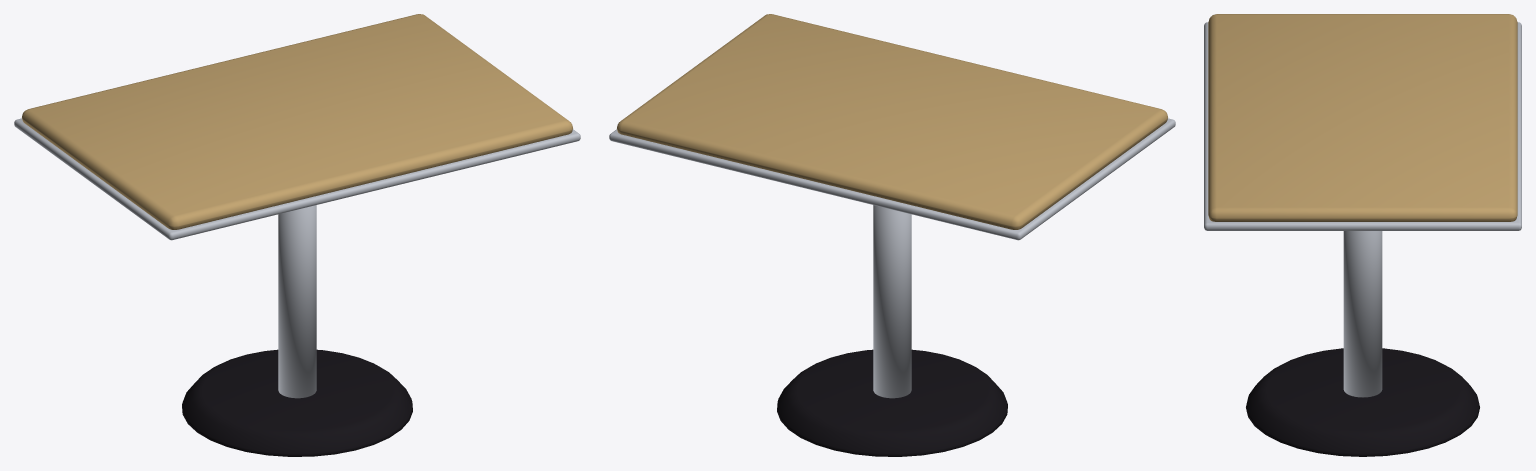
The model's file is table.glb.
The picture shows the model from 3 angles, left to right: view 1: azimuth 30°, elevation 25°; view 2: azimuth 150°, elevation 25°; view 3: azimuth 270°, elevation 25°; orthographic projection.
Parts seen in each view (by area): view 1: table; view 2: table; view 3: table.
Part boxes in pixels (left/top/right/bottom): table: left=14, top=14, right=580, bottom=456; table: left=609, top=14, right=1175, bottom=456; table: left=1204, top=14, right=1521, bottom=456.
Size of the model in its own units: 1.12 by 0.765 by 0.74.
